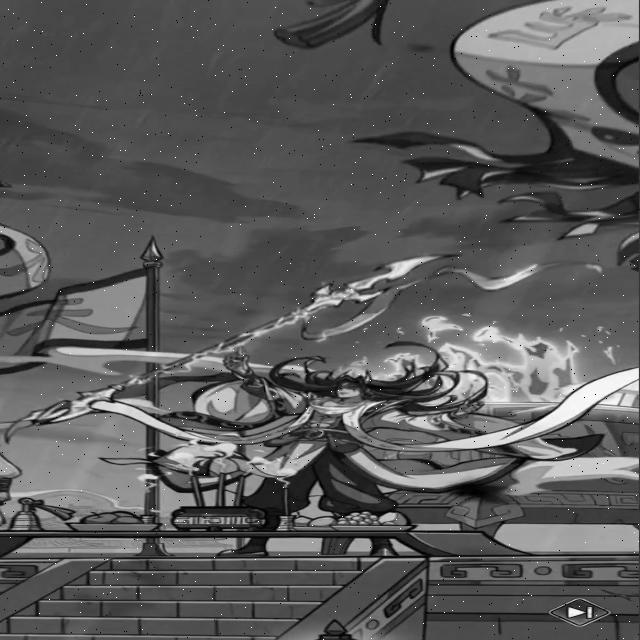system-skip: (546, 596, 611, 626)
